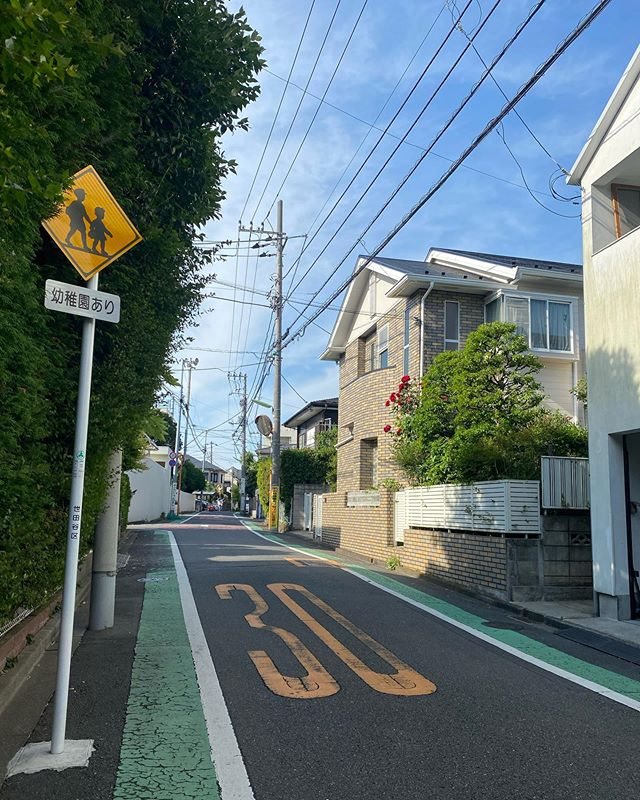building: (335, 241, 584, 543), (560, 39, 640, 610)
sign: (39, 148, 157, 328)
sky: (195, 1, 587, 391)
street: (76, 509, 640, 800)
tree: (439, 318, 562, 486)
